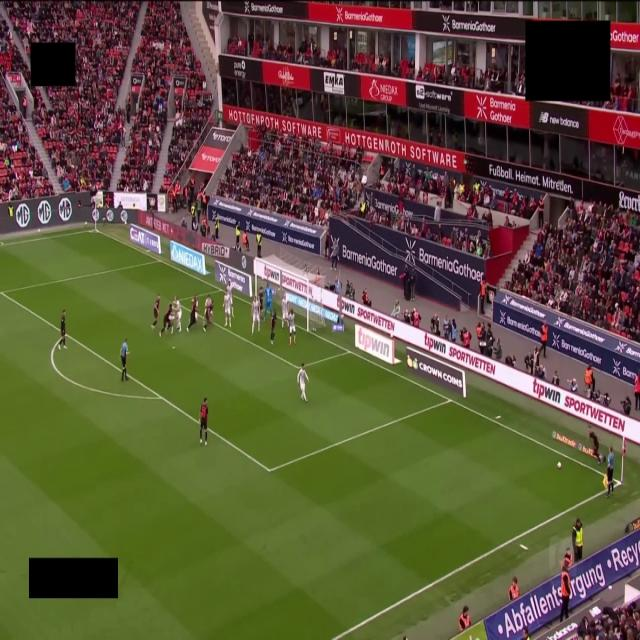ball: (557, 462, 561, 469)
player: (159, 304, 173, 336), (589, 431, 603, 463), (297, 364, 308, 401), (187, 296, 198, 332), (263, 285, 274, 319), (200, 398, 208, 444), (151, 294, 161, 329), (58, 309, 66, 349), (203, 296, 212, 331), (252, 296, 260, 334), (224, 288, 232, 326), (173, 297, 181, 332), (281, 294, 288, 328), (270, 310, 276, 344), (288, 311, 296, 334), (258, 287, 263, 310), (169, 308, 174, 323), (226, 284, 232, 294)
referee: (120, 340, 128, 380)
